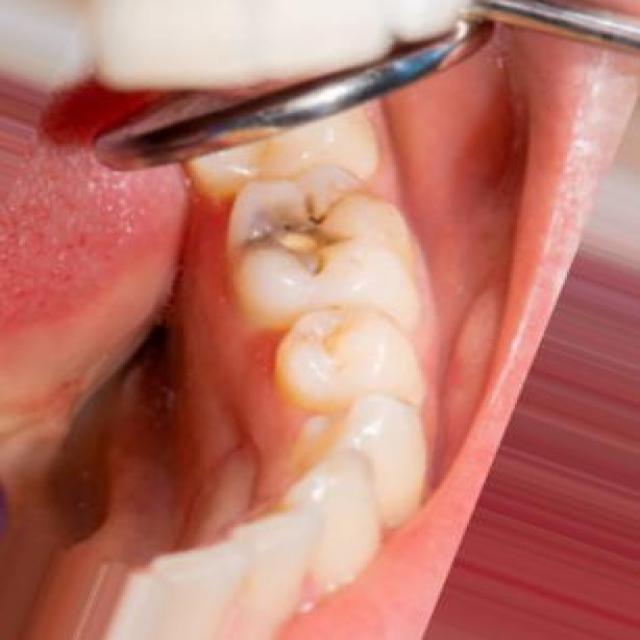caries: (216, 181, 380, 285)
